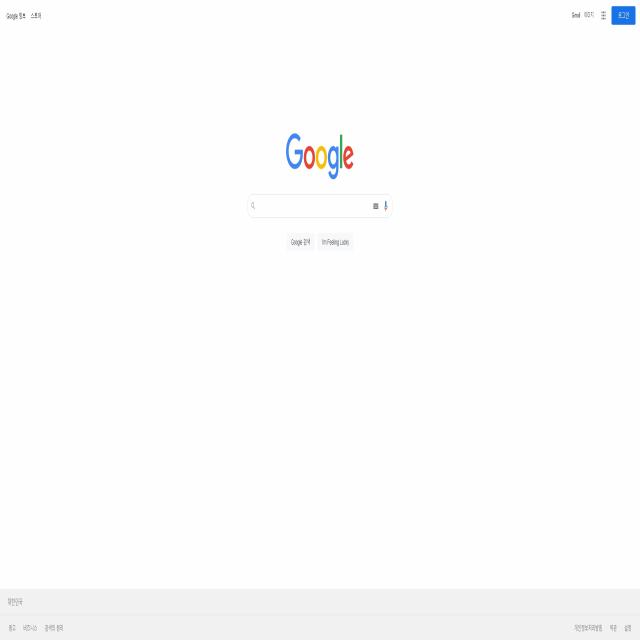menu-bar: (568, 4, 638, 26)
search: (245, 192, 396, 220)
